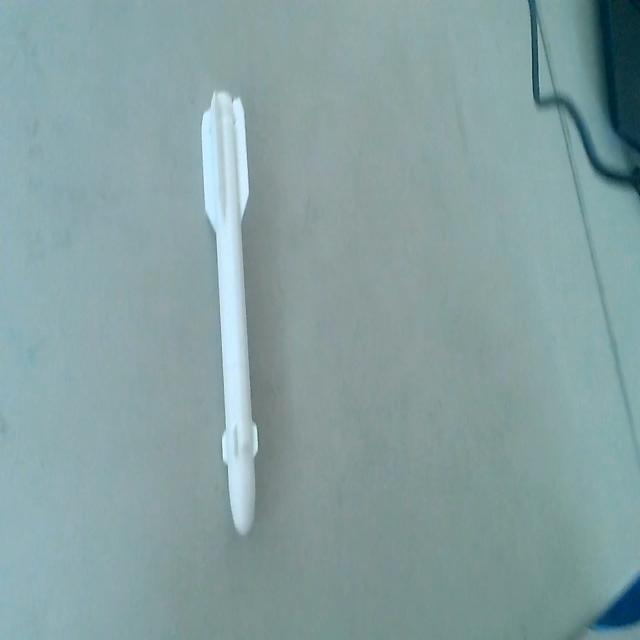Rocket: (199, 83, 263, 547)
